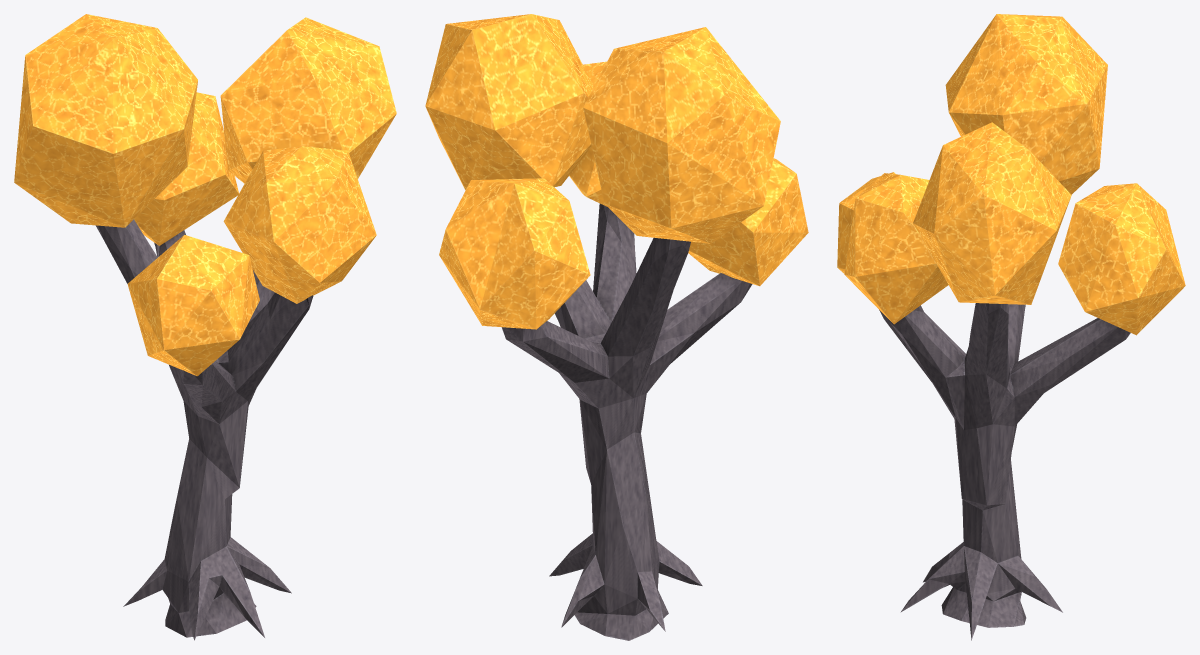
File: underworld-flora-fungal-puffcap-clustered.glb
3 renders of one model, left to right at view 1: azimuth 30°, elevation 25°; view 2: azimuth 150°, elevation 25°; view 3: azimuth 270°, elevation 25°, orthographic. The views are drawn at different scales.
Visible parts, largest first — view 1: puffs, fused-stalk; view 2: puffs, fused-stalk; view 3: puffs, fused-stalk.
Part boxes in pixels (x1,y1,x2,y2): puffs: (14,14,396,376); fused-stalk: (95,219,313,640); puffs: (425,14,808,329); fused-stalk: (502,203,752,640); puffs: (837,14,1185,335); fused-stalk: (879,303,1130,640).
Size of the model in its own units: 4.73 by 8.08 by 4.48.
2 materials, 2 textured.
